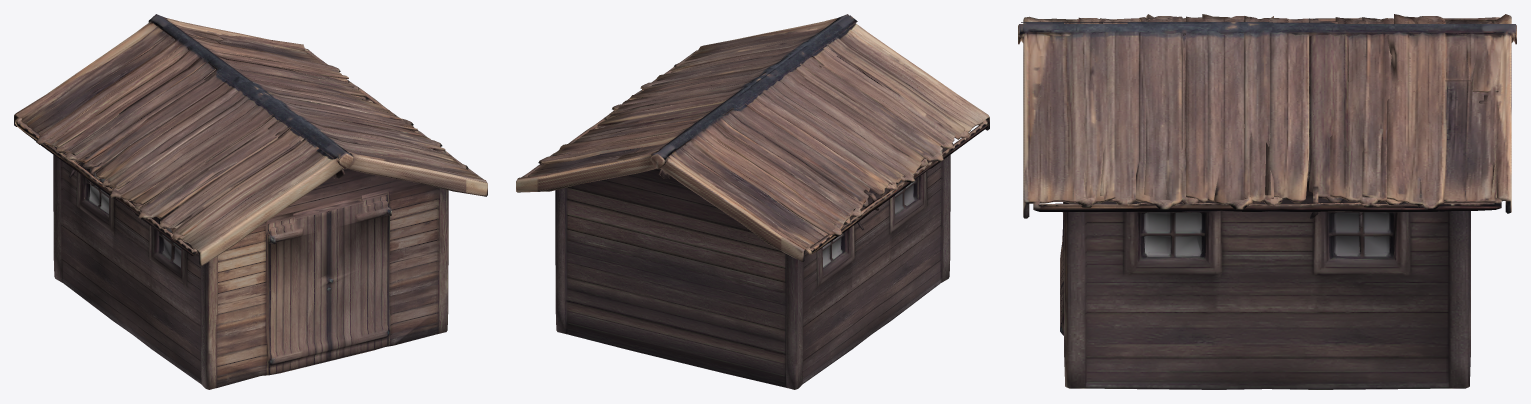
File: Rustic_wood_shed_0621060257_texture.glb
3 renders of one model, left to right at view 1: azimuth 30°, elevation 25°; view 2: azimuth 150°, elevation 25°; view 3: azimuth 270°, elevation 25°, orthographic. The views are drawn at different scales.
Parts seen in each view (by area): view 1: Mesh_0; view 2: Mesh_0; view 3: Mesh_0.
Part boxes in pixels (box(x1,y1,x2,y2)): Mesh_0: box(14, 14, 487, 389); Mesh_0: box(516, 14, 989, 389); Mesh_0: box(1018, 14, 1516, 389).
Bounding box in the file's own units: 0.4314 × 0.3048 × 0.4742.
Materials: 1 (1 with a texture image).
